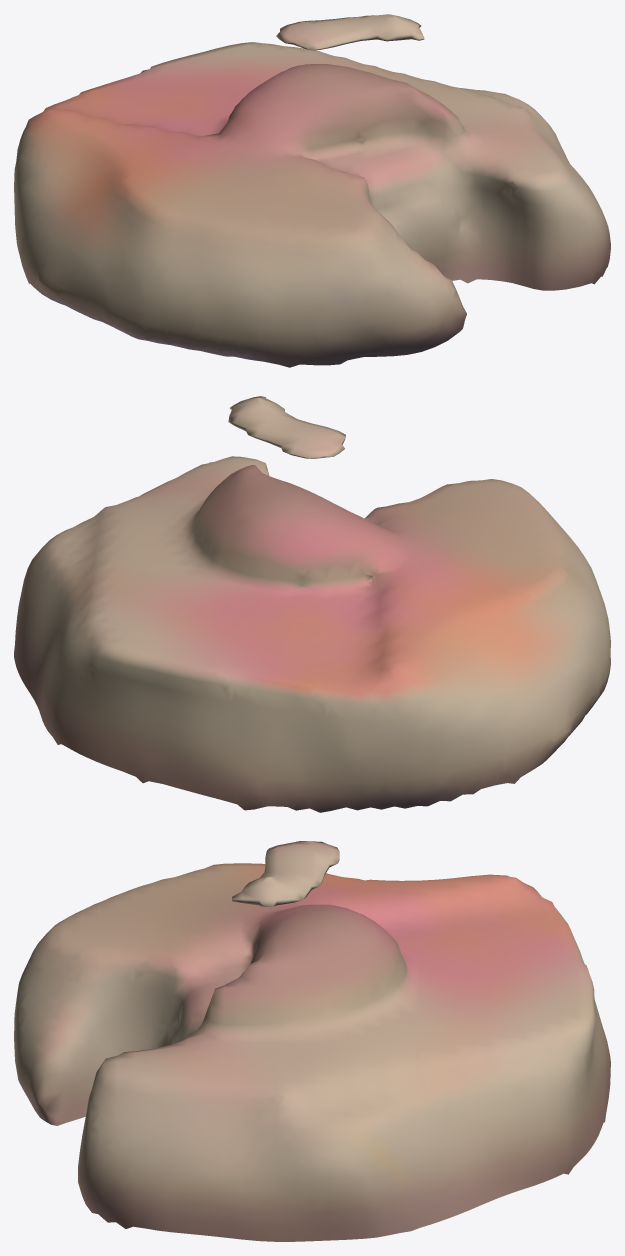
Rendered from Reef_Stack_04.glb.
3 views of the same model, one above another, from view 1: azimuth 30°, elevation 25°; view 2: azimuth 150°, elevation 25°; view 3: azimuth 270°, elevation 25° (orthographic). The views are drawn at different scales.
Visible parts, largest first — view 1: Reef_Stack_04; view 2: Reef_Stack_04; view 3: Reef_Stack_04.
Boxes of the visible parts, left/top/right/bottom form: Reef_Stack_04: left=14, top=14, right=610, bottom=367; Reef_Stack_04: left=14, top=396, right=610, bottom=812; Reef_Stack_04: left=14, top=841, right=610, bottom=1241.
Size of the model in its own units: 23.8 by 10.94 by 21.87.
